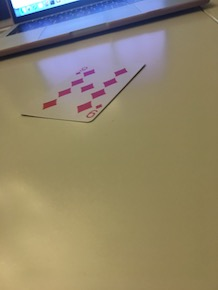NineOfDiamonds: (16, 61, 148, 124)
